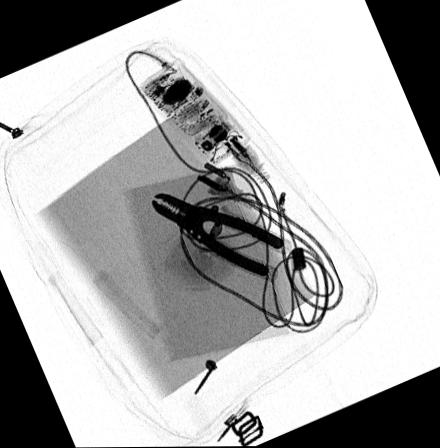Pliers: (150, 191, 285, 279)
